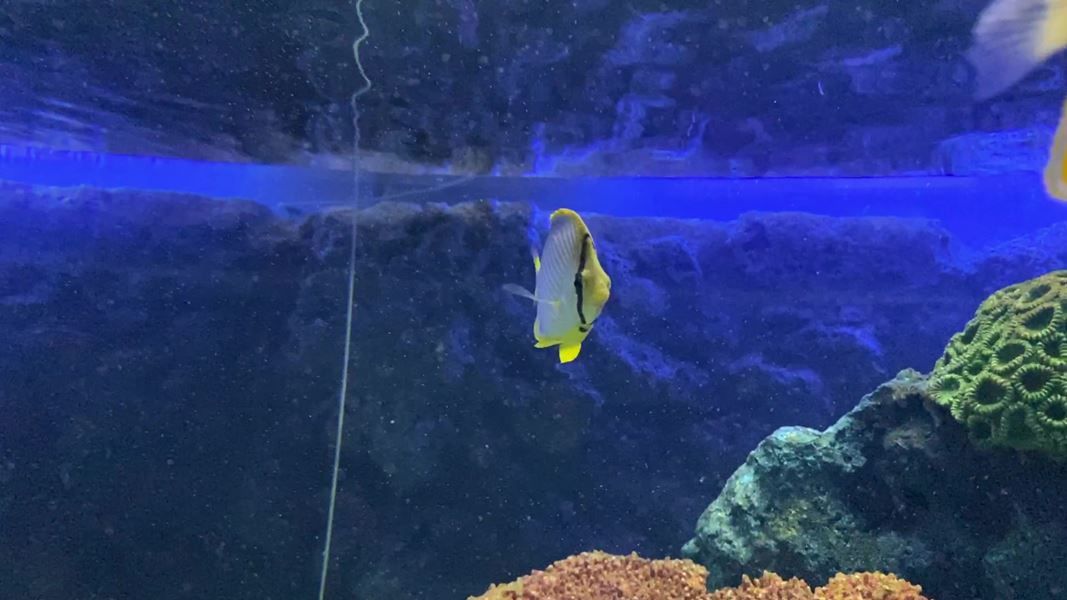Black-backed butterflyfish: (491, 200, 625, 376)
